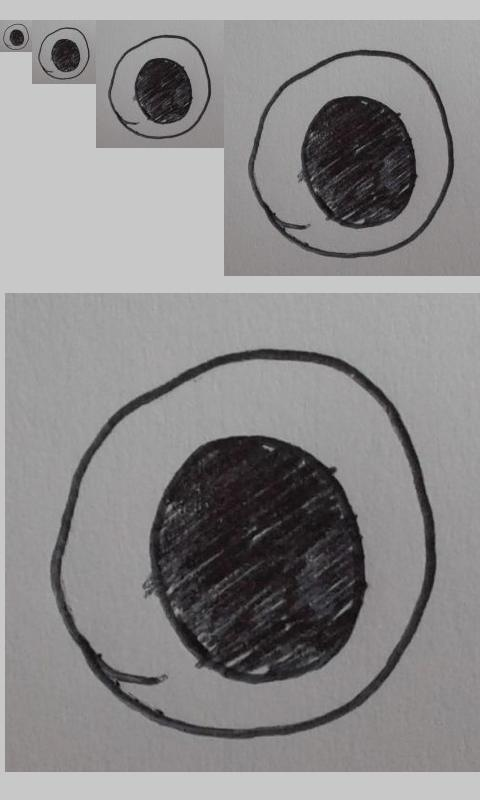radio_button: (48, 347, 436, 742), (248, 49, 455, 259), (107, 33, 212, 141), (37, 26, 91, 81), (2, 23, 30, 51)
